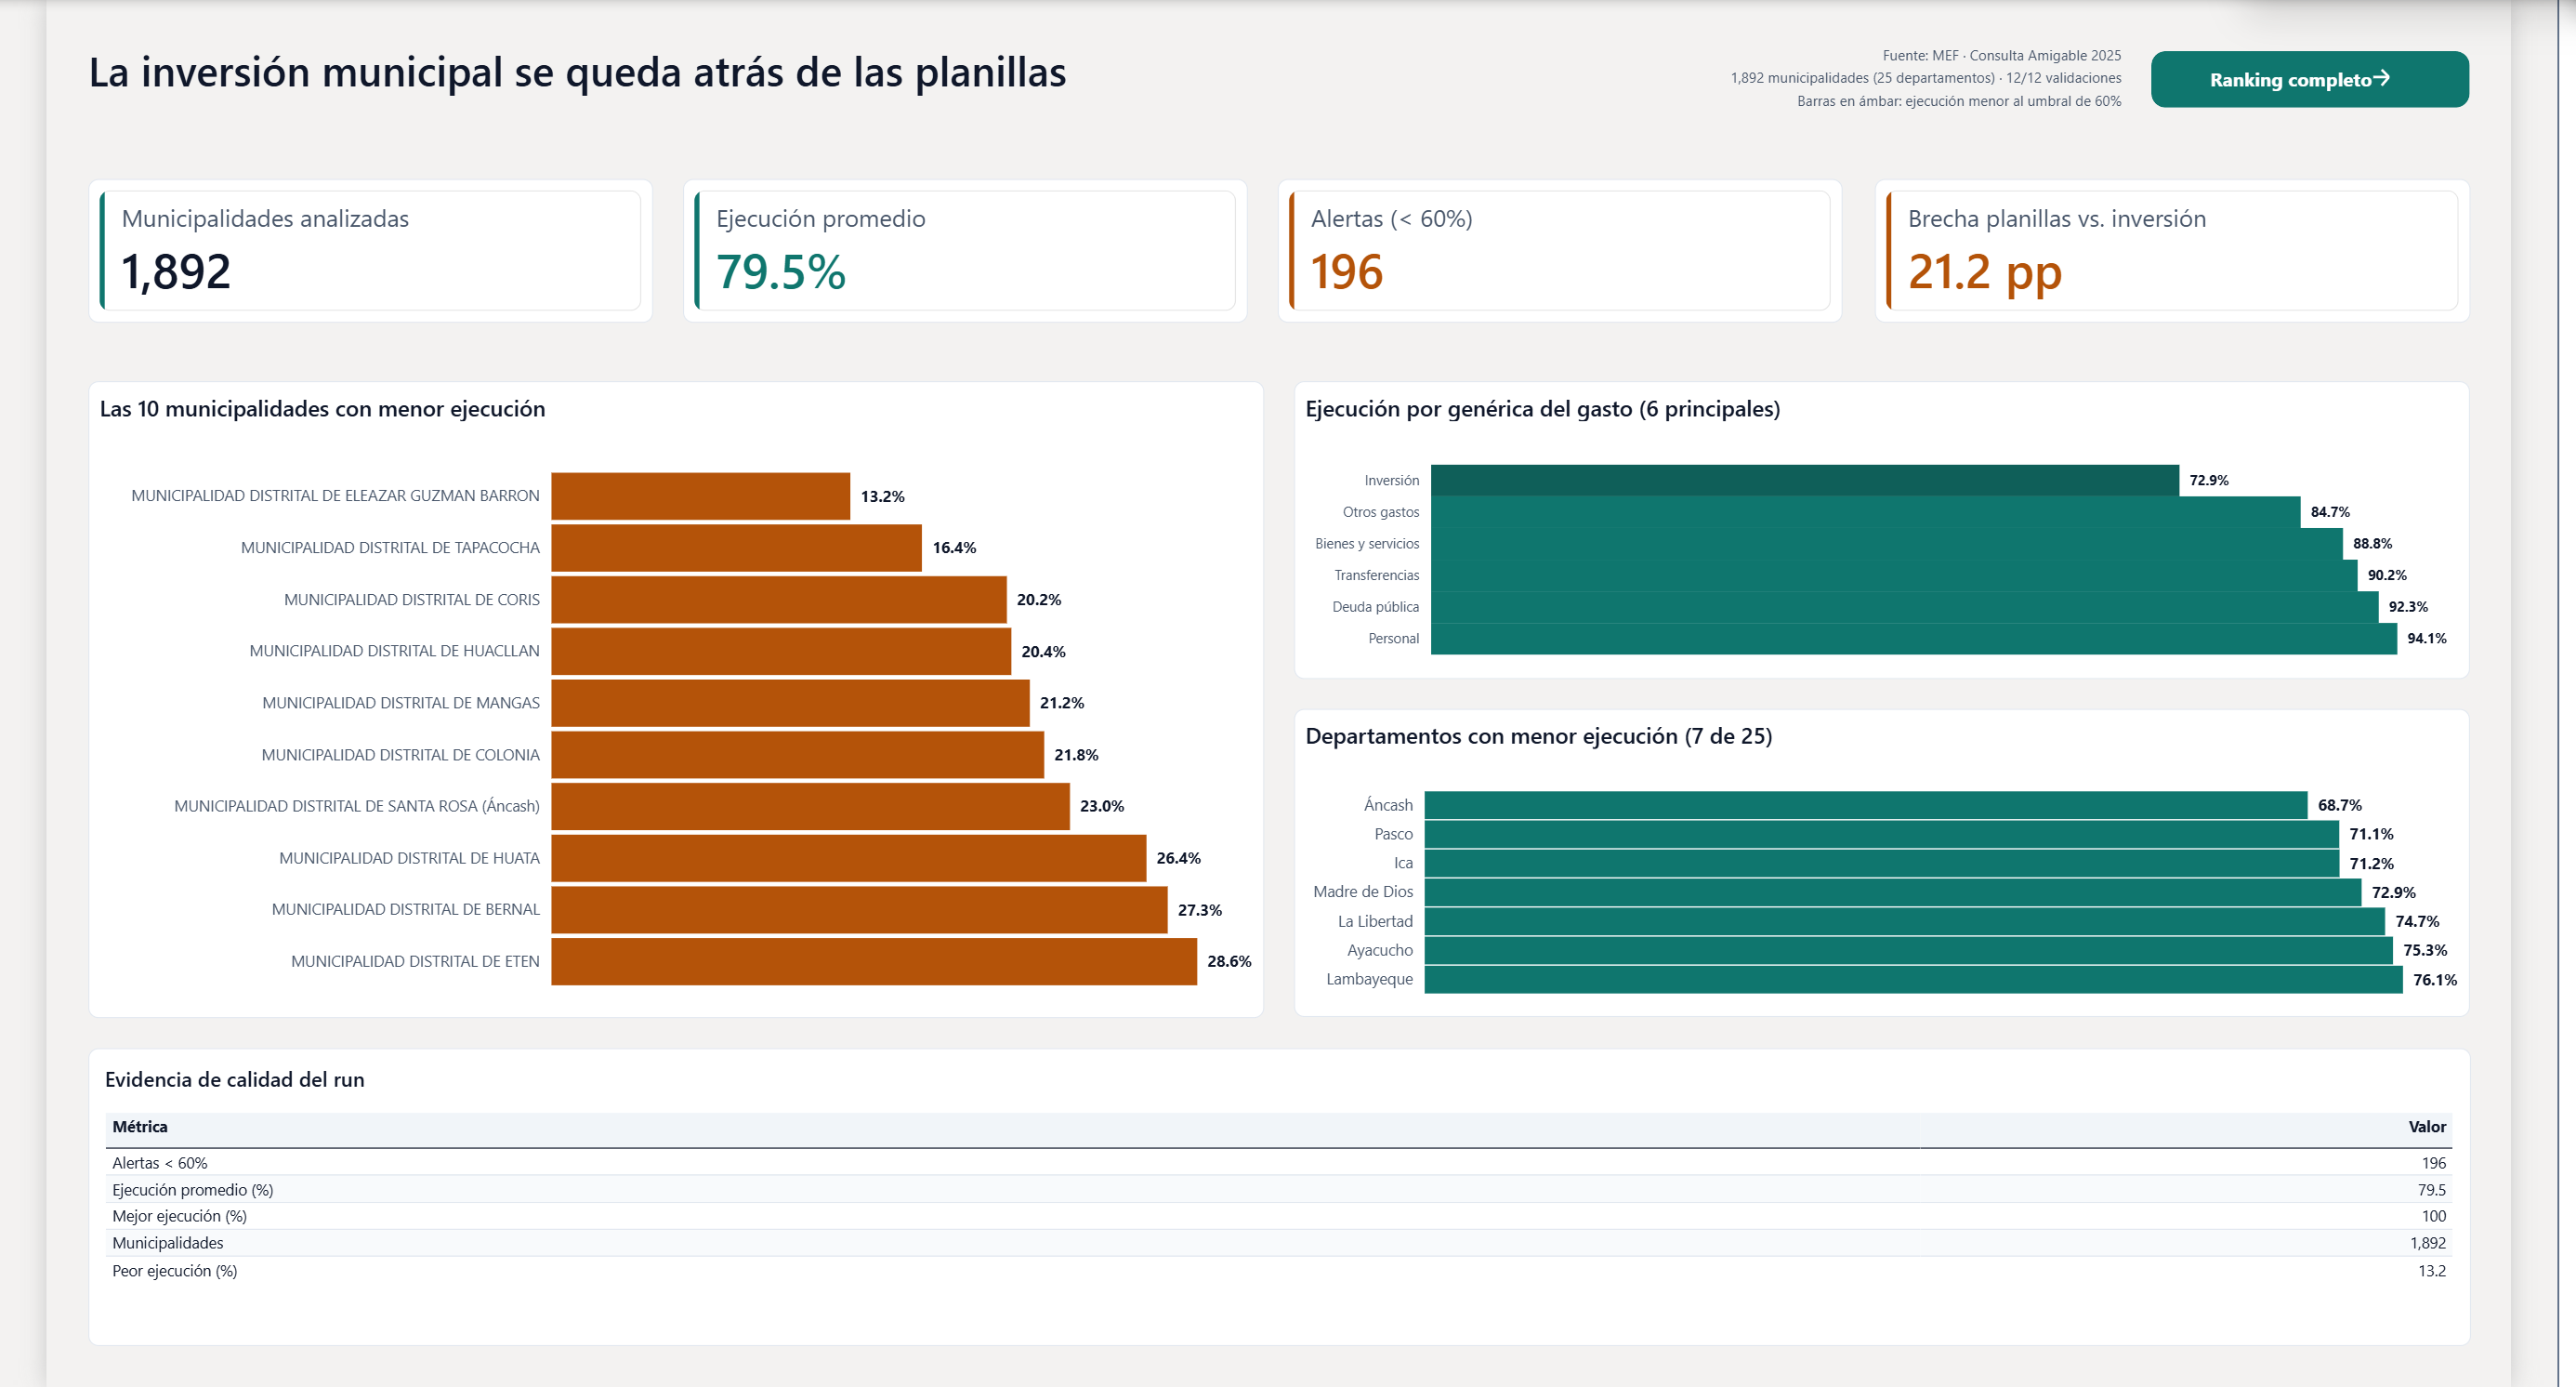

The page's visual inventory and layout, read from the dashboard file:
{"tool":"powerbi","page":{"name":"Panorama","canvas":[1920,1080],"ordinal":0},"visuals":[{"type":"textbox","box":[32,32,1080,64],"z":1000},{"type":"textbox","box":[1136,32,480,64],"z":1000},{"type":"actionButton","box":[1640,40,248,44],"z":1000},{"type":"cardVisual","fields":{"Data":["ExecutionByEntity.Municipalidades"]},"box":[32,140,440,112],"z":1000},{"type":"cardVisual","fields":{"Data":["ExecutionByEntity.Ejecución promedio"]},"box":[496,140,440,112],"z":1000},{"type":"cardVisual","fields":{"Data":["ExecutionByEntity.Alertas <60%"]},"box":[960,140,440,112],"z":1000},{"type":"cardVisual","fields":{"Data":["CategorySummary.Brecha planillas-inversión"]},"box":[1424,140,464,112],"z":1000},{"type":"barChart","title":"Las 10 municipalidades con menor ejecución","fields":{"Category":["ExecutionByEntity.Municipalidad"],"Y":["ExecutionByEntity.Ejecución % entidad"]},"box":[32,296,916,496],"z":1000},{"type":"barChart","title":"Ejecución por genérica del gasto (6 principales)","fields":{"Category":["CategorySummary.Categoría"],"Y":["CategorySummary.Ejecución %"]},"box":[972,296,916,232],"z":1000},{"type":"barChart","title":"Departamentos con menor ejecución (7 de 25)","fields":{"Category":["DepartmentSummary.Departamento"],"Y":["DepartmentSummary.Ejecución % departamento"]},"box":[972,552,916,240],"z":1000},{"type":"tableEx","title":"Evidencia de calidad del run","fields":{"Values":["QualitySummary.Métrica","QualitySummary.Valor"]},"box":[32,816,1856,232],"z":1000}]}

Visuals, with their boxes on the page's 1920x1080 design canvas (x1, y1, x2, y2). These are canvas units, not pixel positions in the 2576x1387 screenshot, which may show the page scaled, cropped or inside an application window:
textbox: x1=32 y1=32 x2=1112 y2=96
textbox: x1=1136 y1=32 x2=1616 y2=96
actionButton: x1=1640 y1=40 x2=1888 y2=84
cardVisual - ExecutionByEntity.Municipalidades: x1=32 y1=140 x2=472 y2=252
cardVisual - ExecutionByEntity.Ejecución promedio: x1=496 y1=140 x2=936 y2=252
cardVisual - ExecutionByEntity.Alertas <60%: x1=960 y1=140 x2=1400 y2=252
cardVisual - CategorySummary.Brecha planillas-inversión: x1=1424 y1=140 x2=1888 y2=252
"Las 10 municipalidades con menor ejecución" barChart: x1=32 y1=296 x2=948 y2=792
"Ejecución por genérica del gasto (6 principales)" barChart: x1=972 y1=296 x2=1888 y2=528
"Departamentos con menor ejecución (7 de 25)" barChart: x1=972 y1=552 x2=1888 y2=792
"Evidencia de calidad del run" tableEx: x1=32 y1=816 x2=1888 y2=1048
